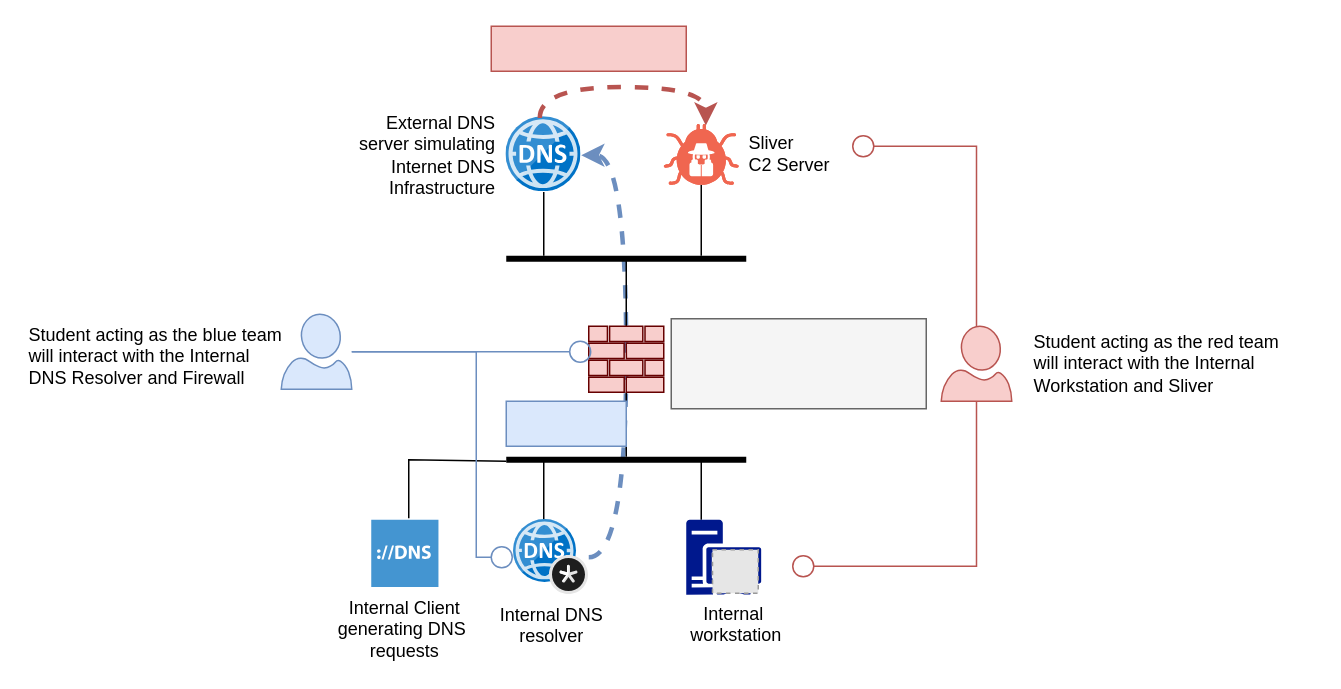
This 1341x689 diagram has some shape labels left out. Grey dashed boxes stand in for pictures. The shapes that lost their labels are listed below. From the top down, each one's centre as x and y in pixels, then its label:
At point 588,48: "A s.commandcontrol.com".
At point 798,363: "DNS from Internal Resolver to External DNS is the only flow allowed".
At point 565,423: "Default DNS Resolution".
